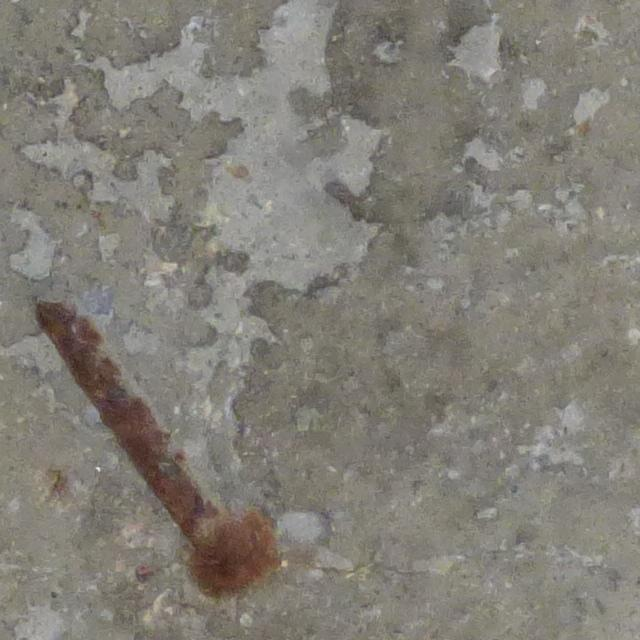Rust: (31, 297, 286, 599)
